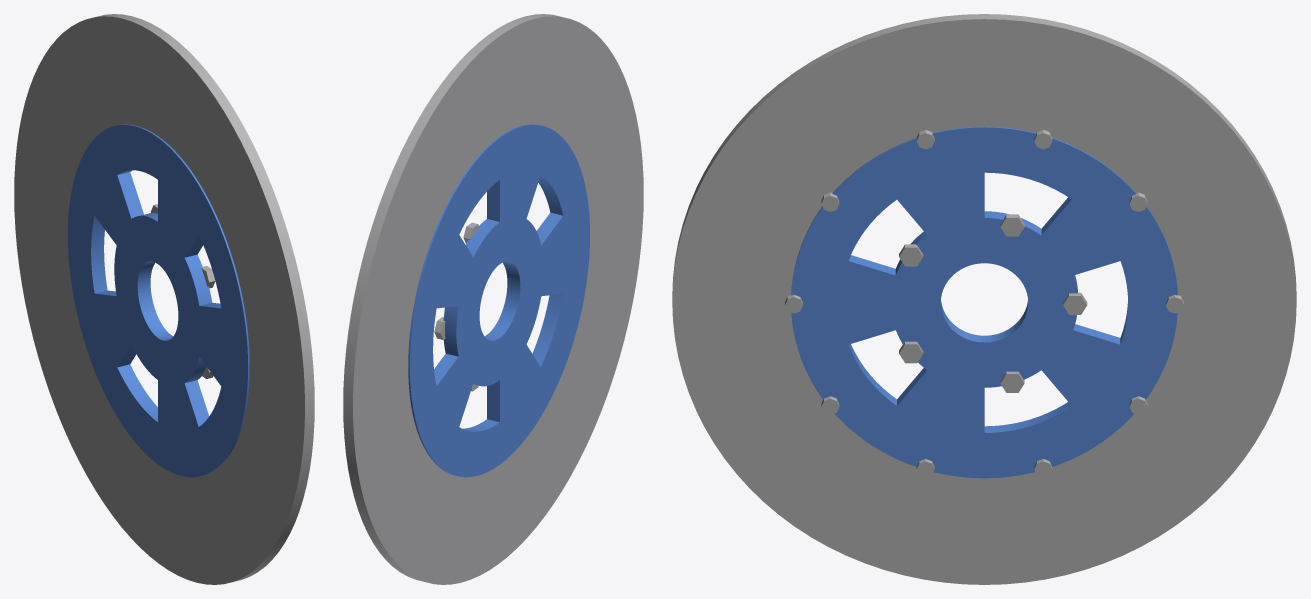
The model's file is floating_310.glb.
The picture shows the model from 3 angles, left to right: view 1: azimuth 30°, elevation 25°; view 2: azimuth 150°, elevation 25°; view 3: azimuth 270°, elevation 25°; orthographic projection. The views are drawn at different scales.
Visible parts, largest first — view 1: lod0; view 2: lod0; view 3: lod0.
Part boxes in pixels (x1,y1,x2,y2): lod0: (14,14,314,584); lod0: (343,14,643,584); lod0: (672,14,1296,584).
Size of what is drawn, in the model's own units: 0.011 by 0.31 by 0.31.
